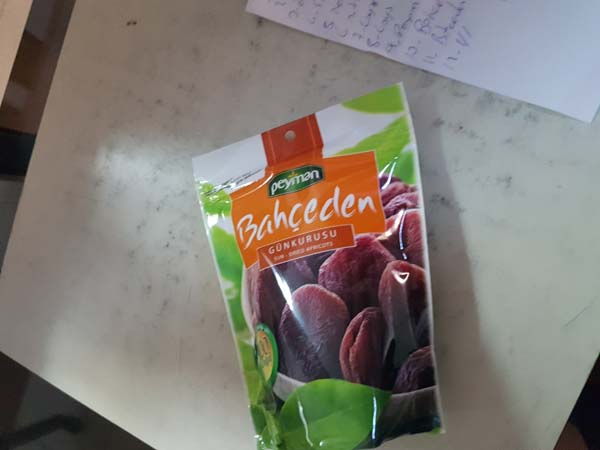bahcedengunkurusu: (194, 83, 449, 450)
